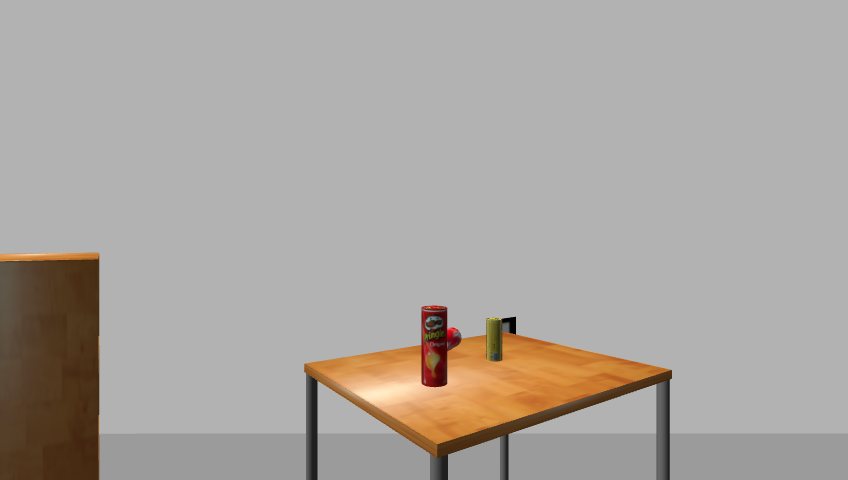aruco marker: (485, 316, 520, 338)
biscuits pack: (486, 317, 503, 363)
bookshelf: (0, 251, 107, 480)
coke can: (441, 326, 461, 353)
dinner table: (294, 332, 681, 479)
pringles can: (420, 305, 449, 389)
